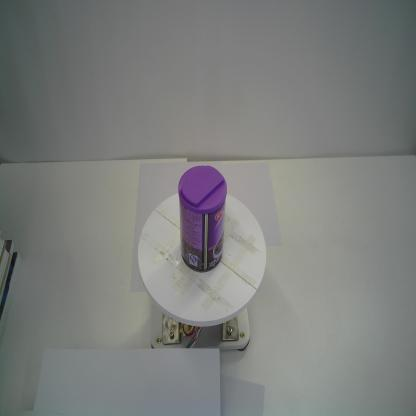Canned Food: (177, 164, 227, 277)
